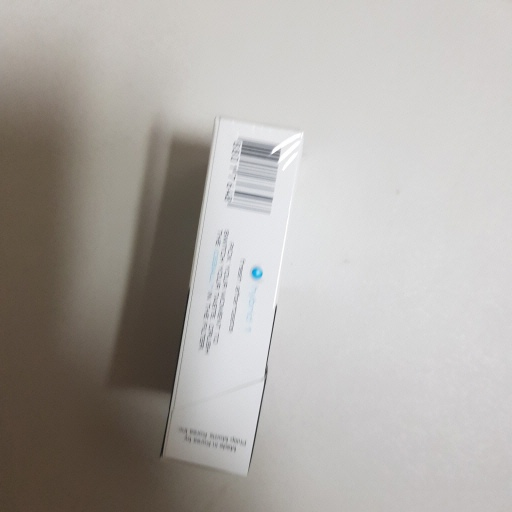Paper_0: (159, 111, 310, 491)
